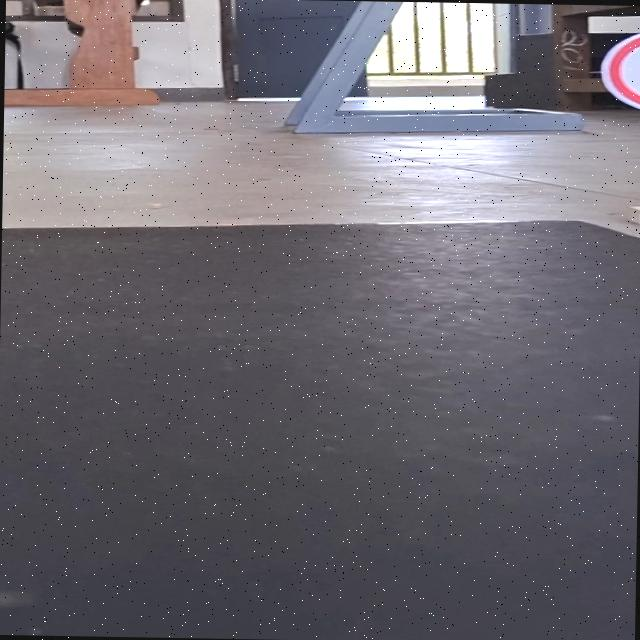Speed20: (583, 16, 640, 118)
